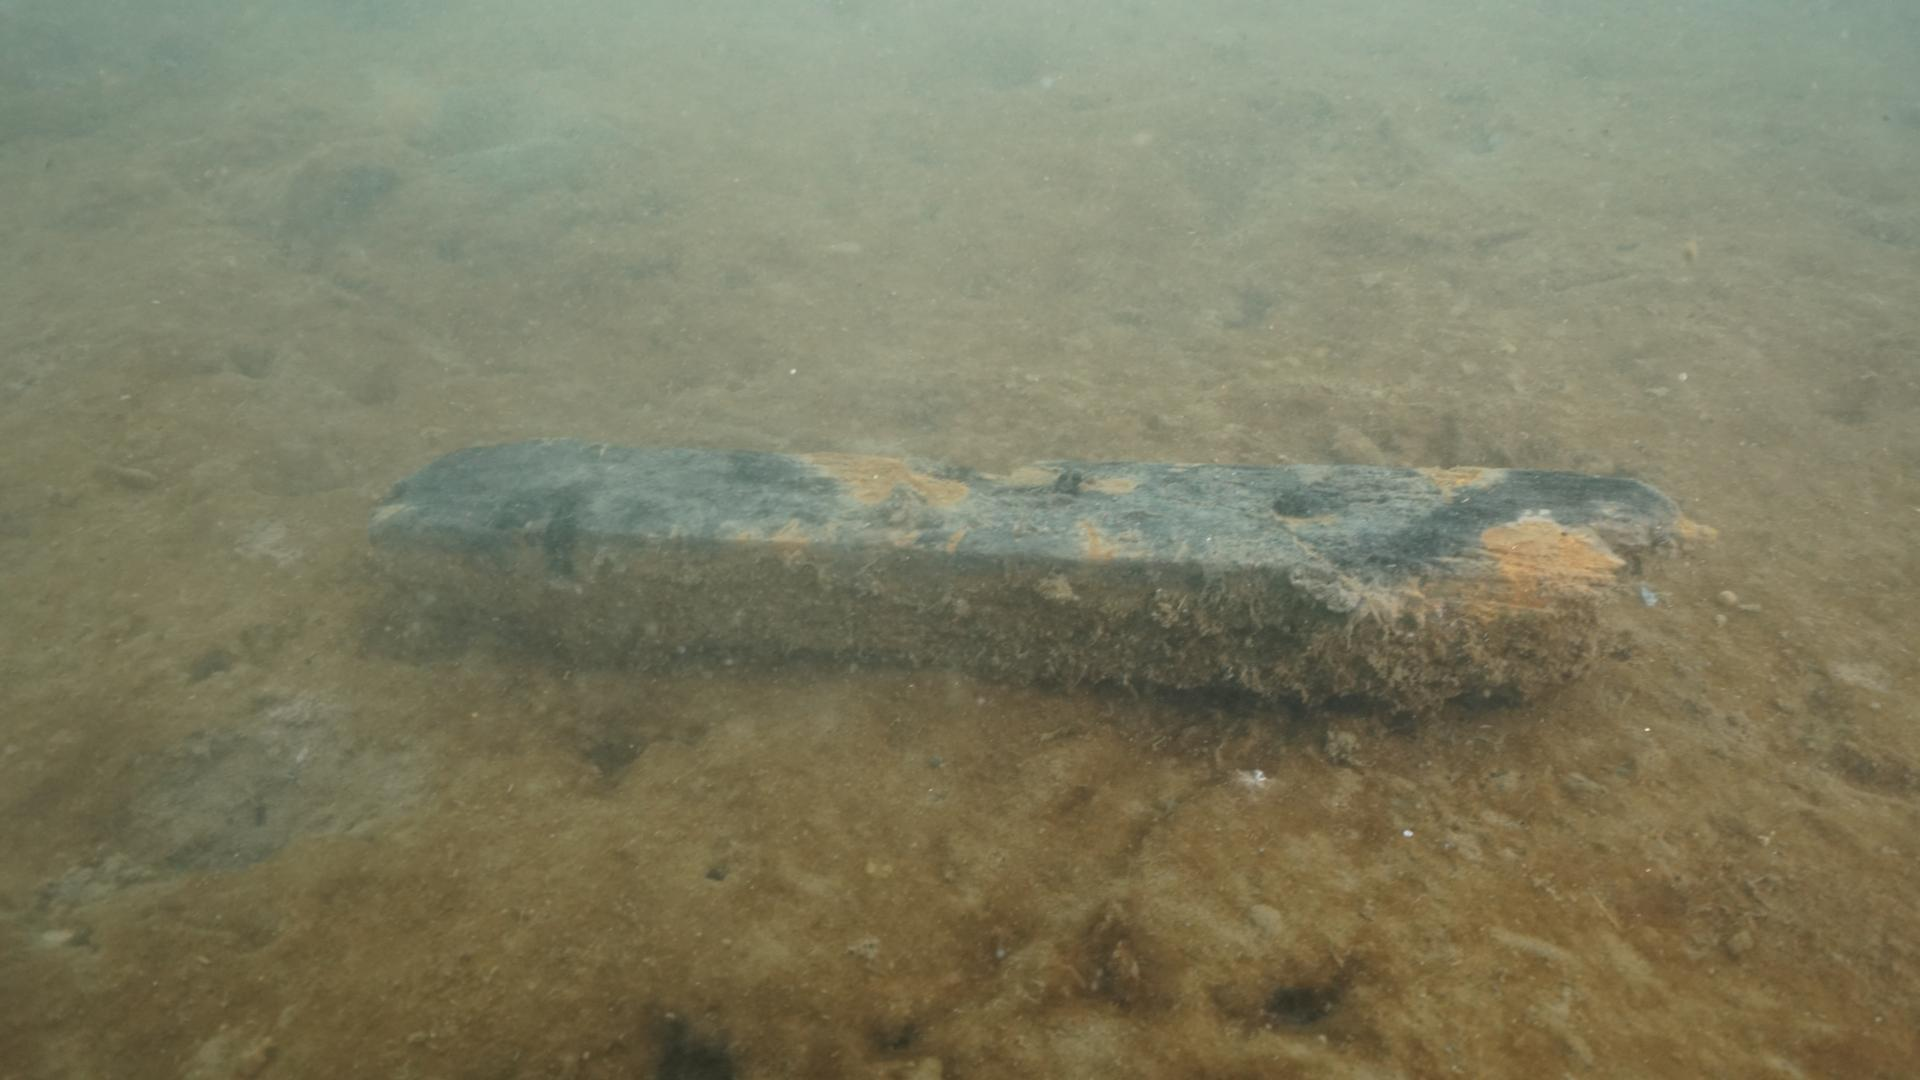wood: (357, 423, 1724, 731)
